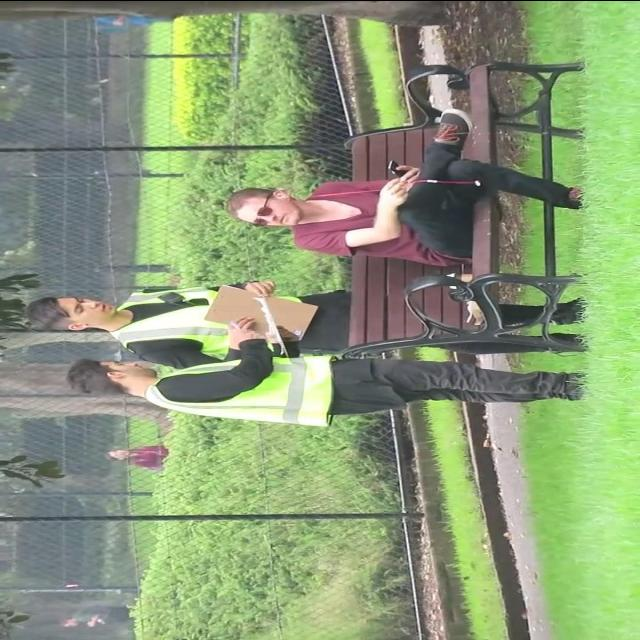jacket: (138, 352, 340, 432), (83, 280, 260, 350)
